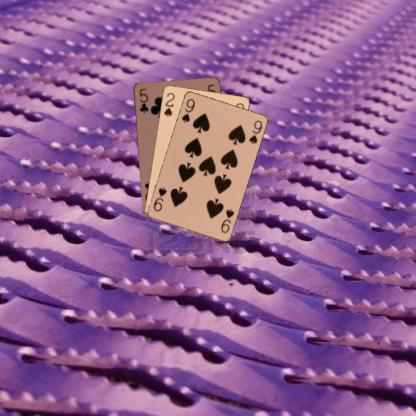2s: (161, 89, 176, 118)
5c: (137, 86, 150, 114)
9s: (178, 96, 196, 124), (218, 206, 235, 234)
